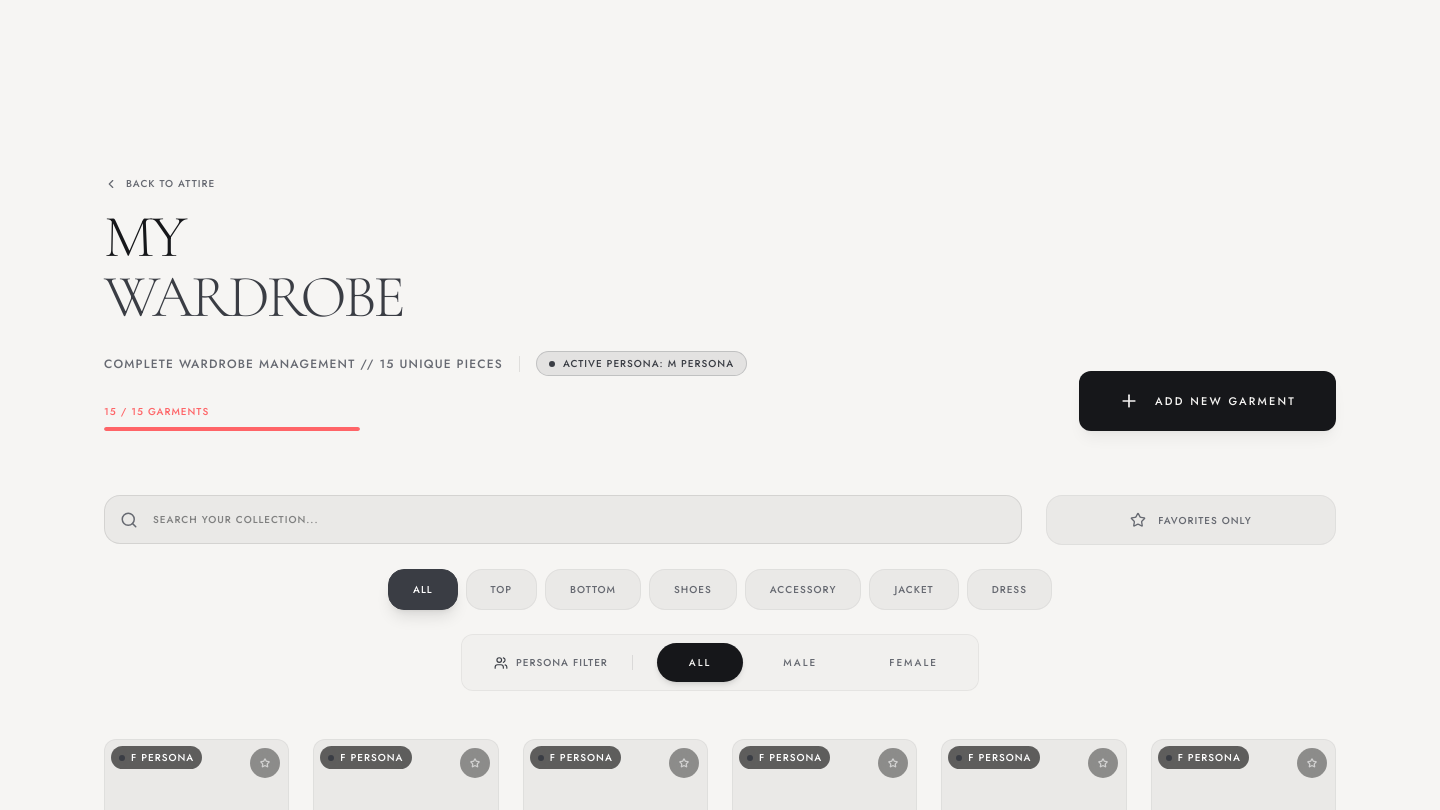
Test: Closet page › a full closet explains itself instead of opening the upload wizard
What coordinates should you click on to do the following:
click the button "Add New Garment"
I would click on:
 (1208, 401)
Its box is [1079,371,1336,431].
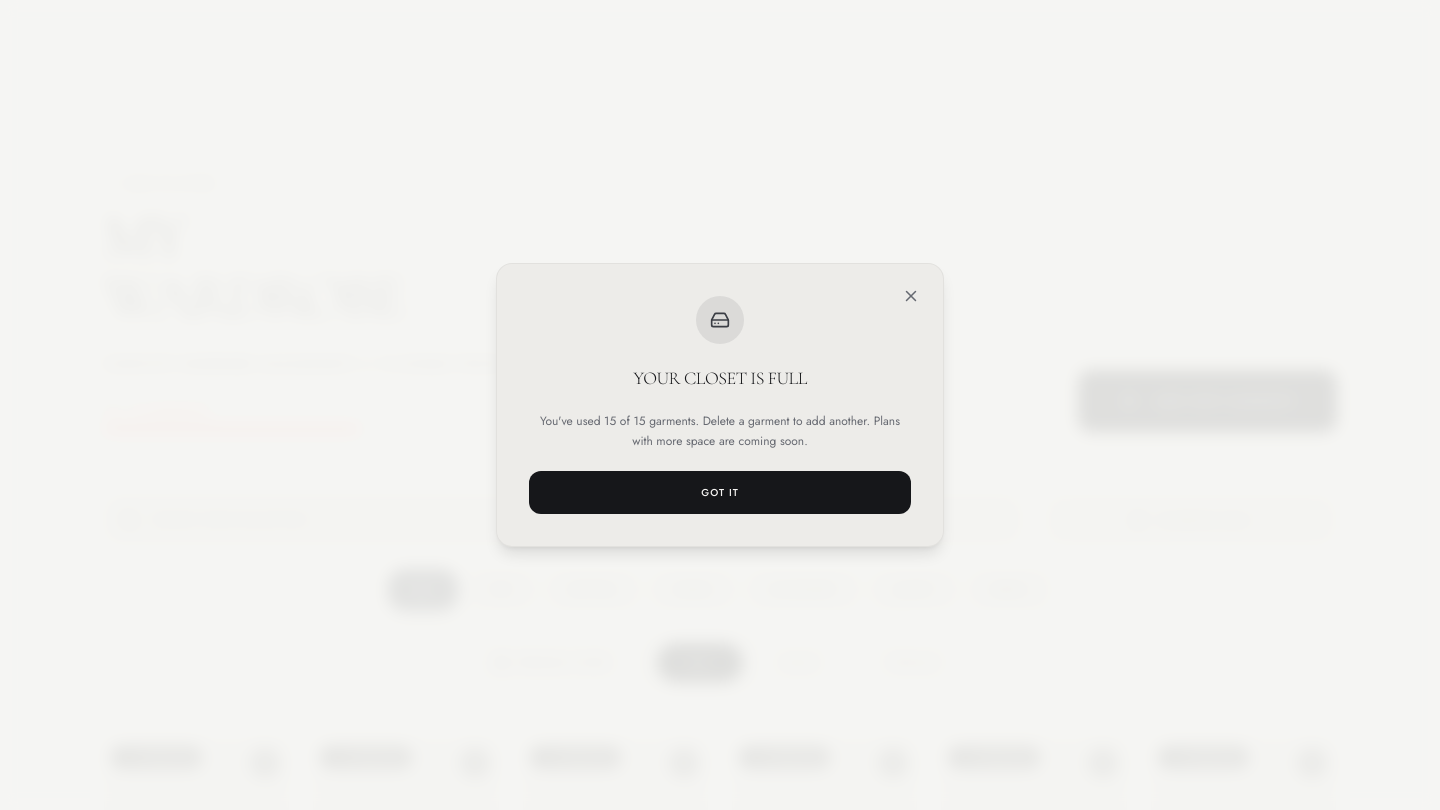
Expected: the text "used 15 of 15 garments" is shown, [540,412,900,450]
